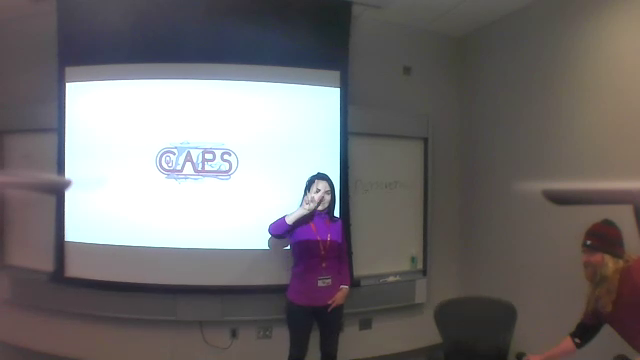peace: (297, 178, 330, 214)
